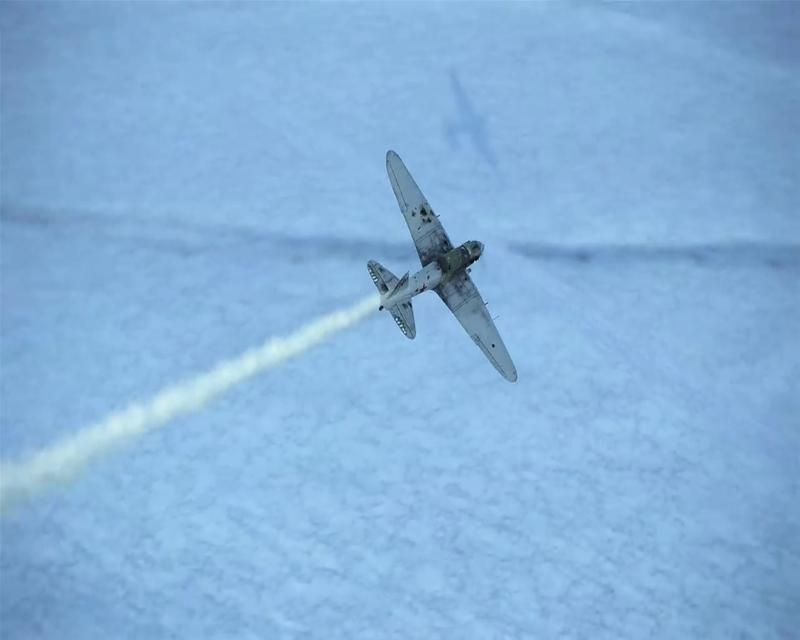UAV: (365, 148, 519, 383)
